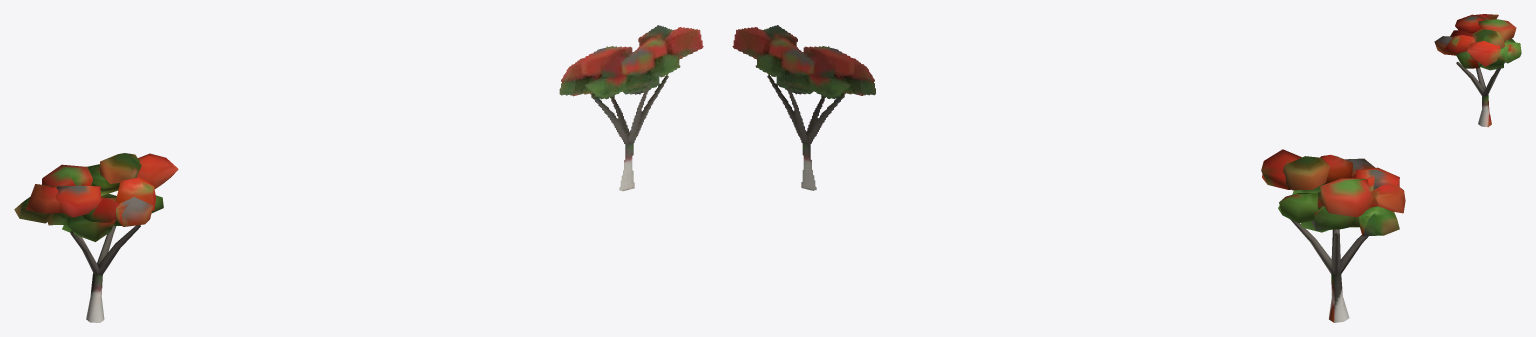
The model's file is tree_gulmohar.glb.
3 views of the same model, side by side, from view 1: azimuth 30°, elevation 25°; view 2: azimuth 150°, elevation 25°; view 3: azimuth 270°, elevation 25° (orthographic). The views are drawn at different scales.
Visible parts, largest first — view 1: tree_gulmohar_LOD0, tree_gulmohar_IMPOSTOR; view 2: tree_gulmohar_LOD0, tree_gulmohar_IMPOSTOR; view 3: tree_gulmohar_LOD0.
Part boxes in pixels (<box>): tree_gulmohar_LOD0: <box>14,153,178,322</box>; tree_gulmohar_IMPOSTOR: <box>559,25,703,191</box>; tree_gulmohar_LOD0: <box>1261,149,1405,322</box>; tree_gulmohar_IMPOSTOR: <box>732,25,875,190</box>; tree_gulmohar_LOD0: <box>1434,14,1521,127</box>.
Size of what is drawn, in the model's own units: 133 by 29.62 by 22.23.
2 materials, 2 textured.
